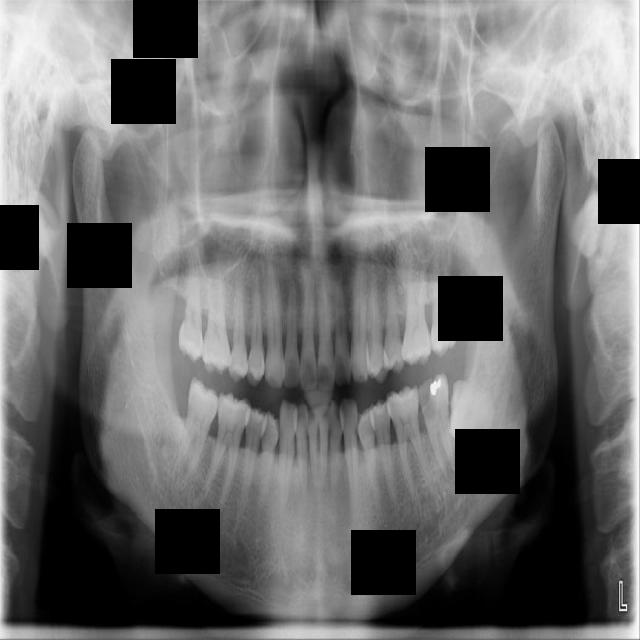52: (413, 372, 458, 424), (354, 425, 358, 447)
73: (587, 574, 601, 578)
BioHorizons Implant: (427, 228, 457, 358)
Biomet 3i Implant: (446, 378, 495, 443)
Blue Sky Bio Implant: (416, 371, 458, 480)
Caries: (173, 243, 204, 366)
Implant: (170, 376, 224, 491)
